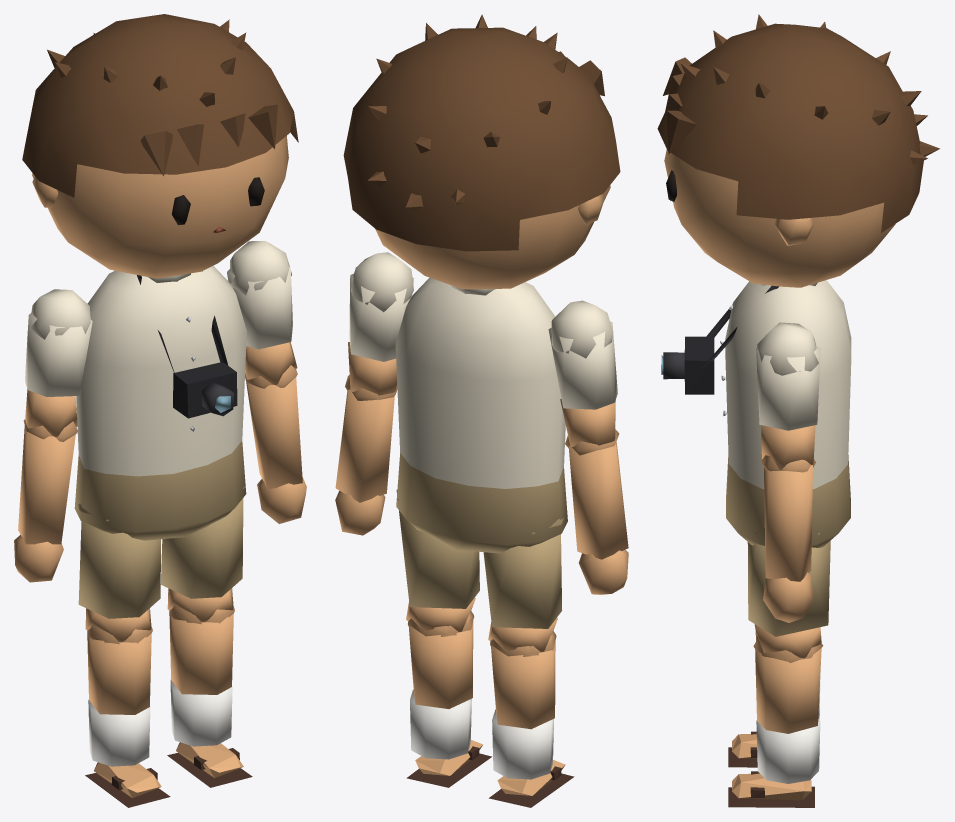
File: era4_tourist.glb
3 views of the same model, side by side, from view 1: azimuth 30°, elevation 25°; view 2: azimuth 150°, elevation 25°; view 3: azimuth 270°, elevation 25° (orthographic).
Parts seen in each view (by area): view 1: head, body, shin_L, shin_R, arm_R, leg_R, arm_L, leg_L, forearm_R, forearm_L; view 2: head, body, shin_R, shin_L, arm_R, leg_R, arm_L, forearm_R, leg_L, forearm_L; view 3: head, body, shin_L, arm_L, forearm_L, leg_L, shin_R.
Boxes of the visible parts, x1=… form: head: x1=22, y1=14, x2=298, y2=278; body: x1=74, y1=265, x2=246, y2=540; shin_L: x1=167, y1=604, x2=252, y2=787; shin_R: x1=85, y1=624, x2=170, y2=807; arm_R: x1=23, y1=289, x2=92, y2=441; leg_R: x1=78, y1=504, x2=160, y2=643; arm_L: x1=227, y1=241, x2=297, y2=388; leg_L: x1=160, y1=486, x2=244, y2=623; forearm_R: x1=14, y1=425, x2=75, y2=582; forearm_L: x1=246, y1=373, x2=306, y2=523; head: x1=343, y1=14, x2=620, y2=289; body: x1=395, y1=277, x2=567, y2=553; shin_R: x1=489, y1=632, x2=574, y2=807; shin_L: x1=406, y1=612, x2=491, y2=787; arm_R: x1=548, y1=300, x2=619, y2=455; leg_R: x1=483, y1=517, x2=563, y2=656; arm_L: x1=345, y1=252, x2=414, y2=400; forearm_R: x1=568, y1=439, x2=628, y2=594; leg_L: x1=396, y1=490, x2=479, y2=636; forearm_L: x1=335, y1=378, x2=395, y2=535; head: x1=657, y1=14, x2=939, y2=287; body: x1=661, y1=280, x2=851, y2=547; shin_L: x1=728, y1=636, x2=821, y2=807; arm_L: x1=756, y1=322, x2=820, y2=471; forearm_L: x1=761, y1=455, x2=813, y2=622; leg_L: x1=747, y1=532, x2=830, y2=662; shin_R: x1=728, y1=631, x2=820, y2=767.
Bounding box in the file's own units: 0.6011 × 1.47 × 0.5093.
